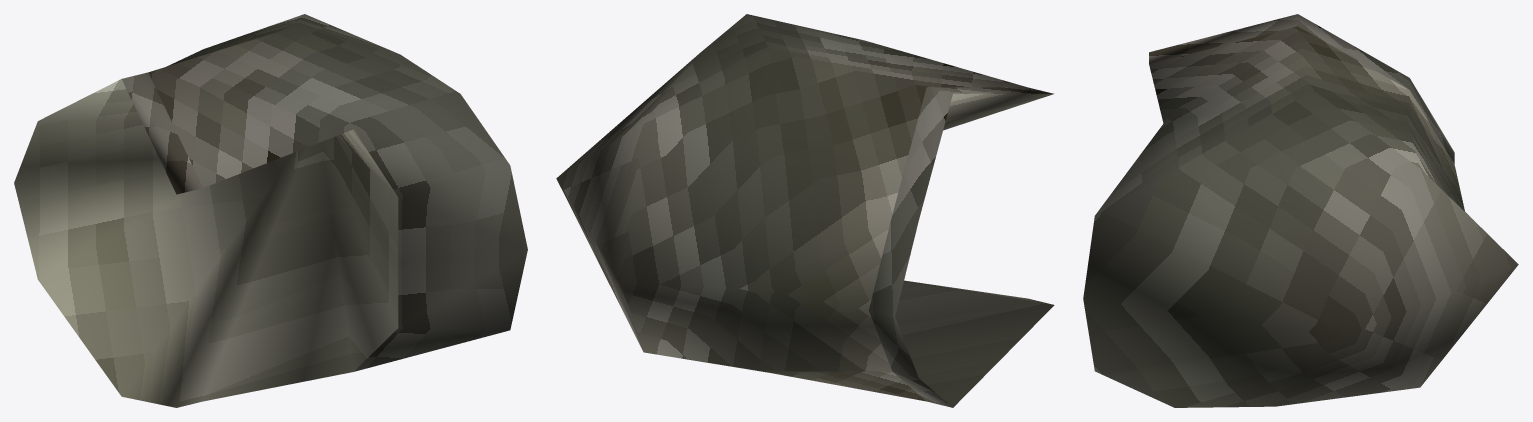
File: AM_Item0006.glb
3 views of the same model, side by side, from view 1: azimuth 30°, elevation 25°; view 2: azimuth 150°, elevation 25°; view 3: azimuth 270°, elevation 25° (orthographic). The views are drawn at different scales.
Parts seen in each view (by area): view 1: H_M_body_all; view 2: H_M_body_all; view 3: H_M_body_all.
Part boxes in pixels (<box>): H_M_body_all: <box>14,14,527,407</box>; H_M_body_all: <box>556,14,1054,407</box>; H_M_body_all: <box>1083,14,1518,407</box>.
Bounding box in the file's own units: 2.39 × 1.86 × 2.38.
1 material, 1 textured.
